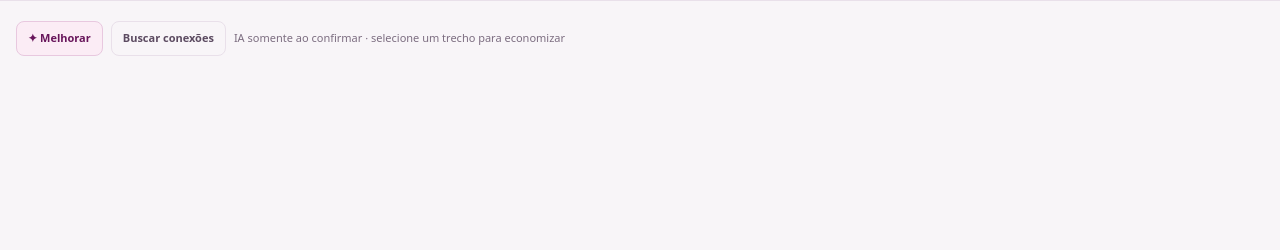
Scenario: draft assistant › does not invoke any endpoint while typing; preview alone does not execute AI
Click the button "✦ Melhorar" at (59, 38), box [16,21,103,56]
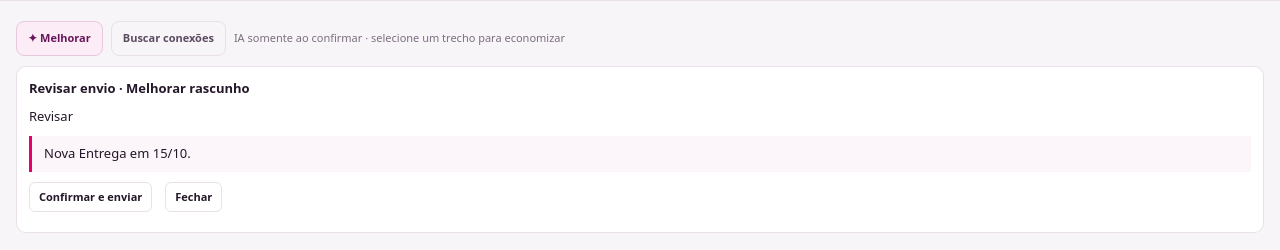
Expected: the button "Confirmar e enviar" is shown, [29,182,152,212]
